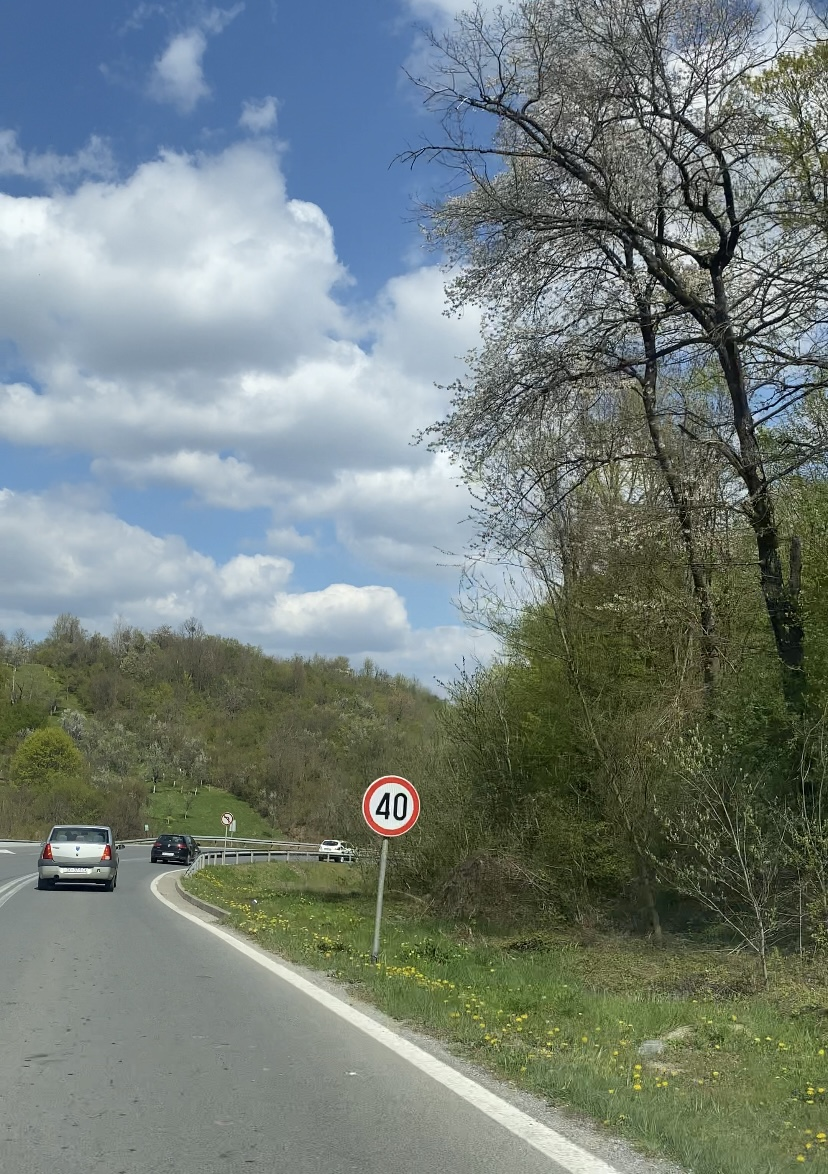Ograničenje brzine 40: (362, 775, 421, 837)
